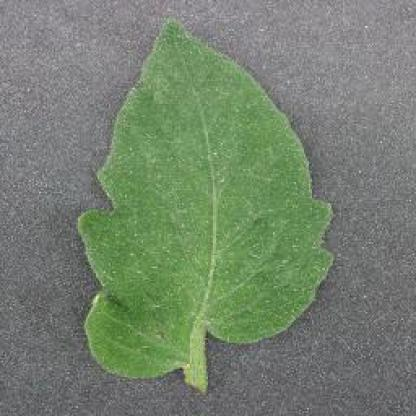good leaf: (47, 17, 334, 385)
